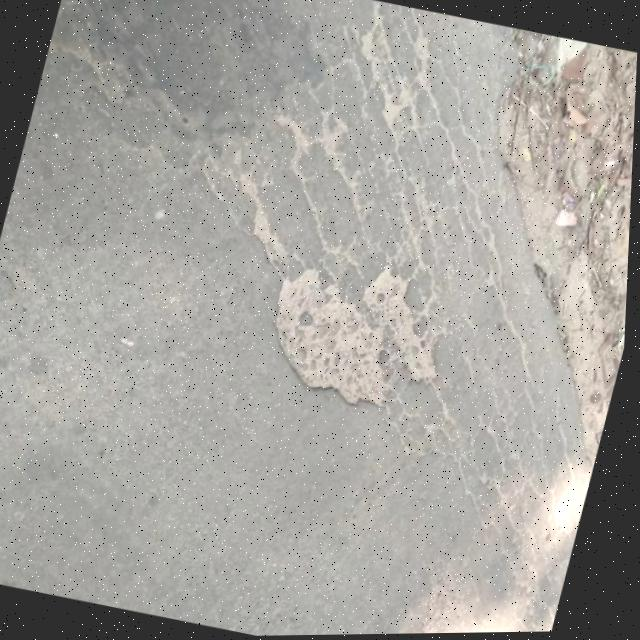Pothole: (255, 239, 469, 429)
